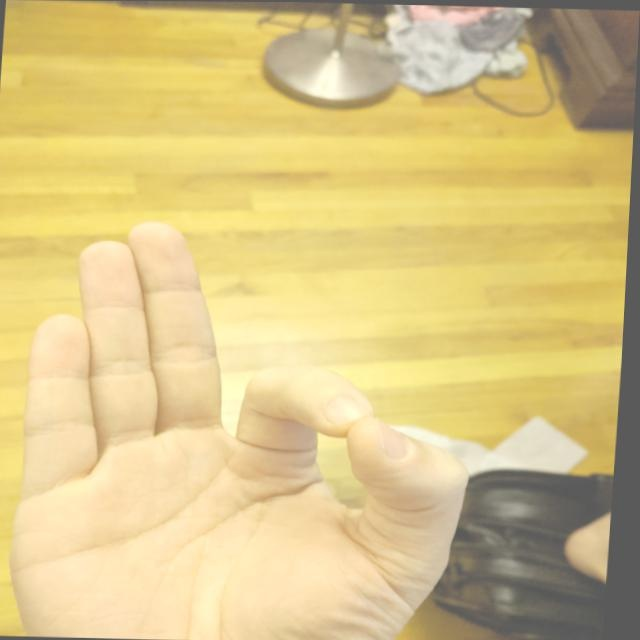F: (1, 211, 498, 639)
